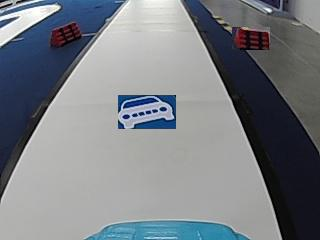bomb: (49, 19, 81, 47)
